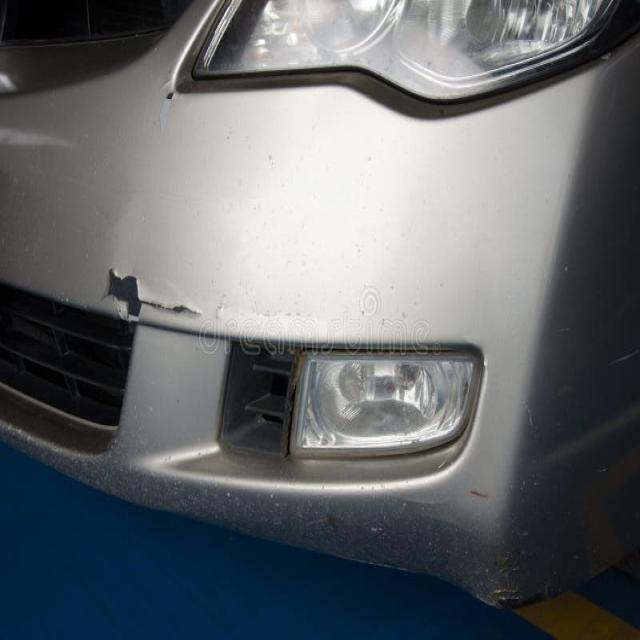scratch: (107, 267, 204, 320), (489, 541, 547, 609), (157, 89, 176, 136), (467, 486, 497, 502)
